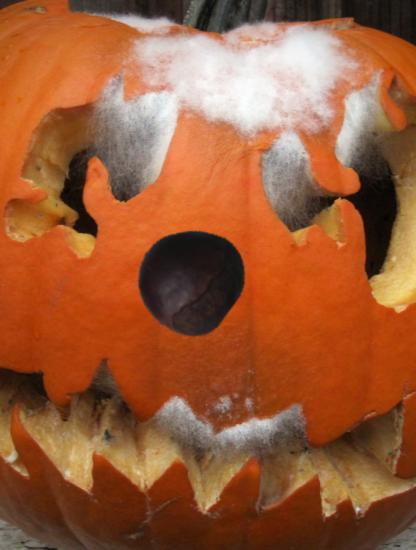Chestnut: (135, 224, 246, 335)
